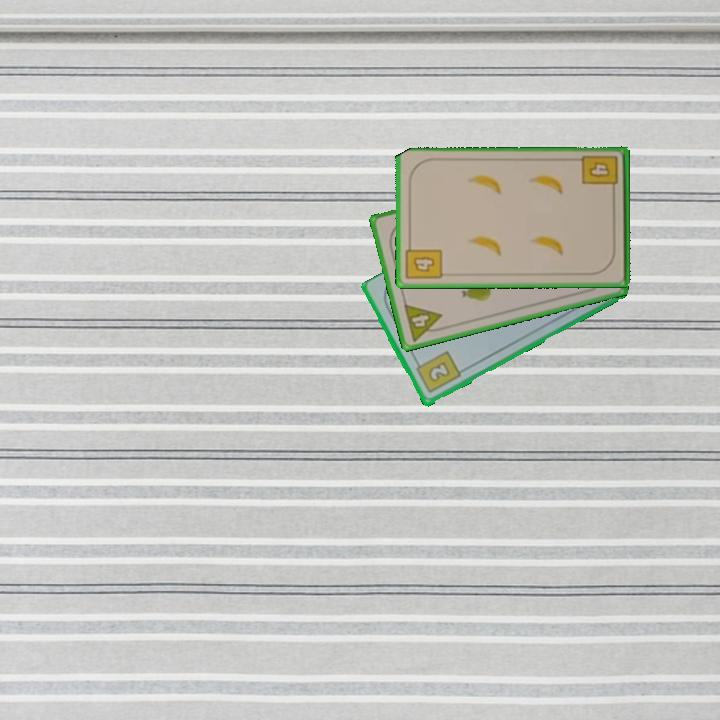2b: (412, 348, 463, 396)
4b: (579, 152, 621, 196), (403, 239, 445, 282)
4p: (400, 300, 448, 344)
